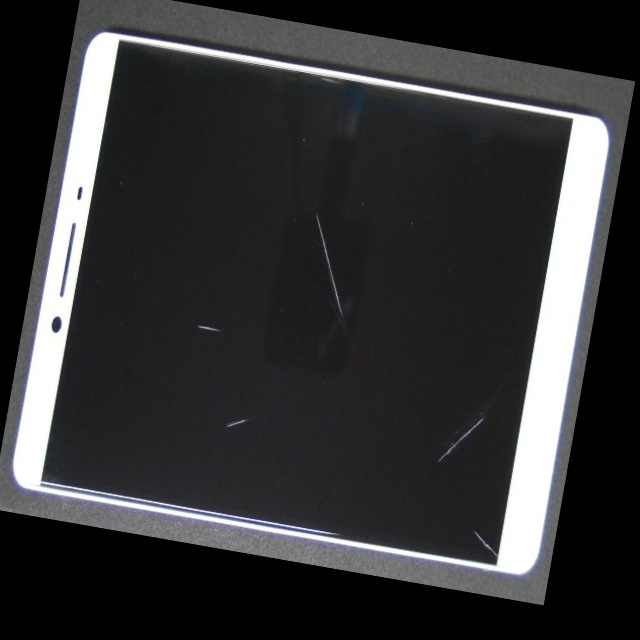scratch: (245, 154, 613, 604), (146, 163, 517, 490), (258, 285, 591, 605), (103, 219, 401, 571), (78, 120, 313, 489)
